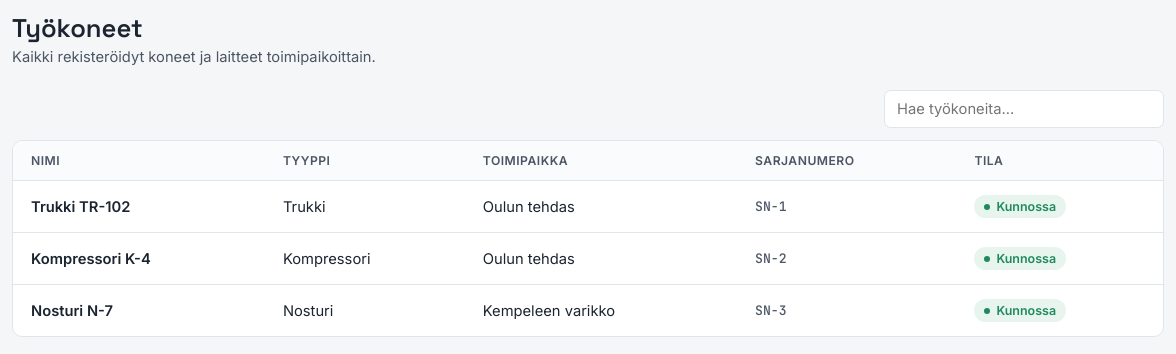
Test: Assets - haku ja lajittelu › hakukenttä suodattaa nimen mukaan
This screenshot has width=1176, height=354.
Expected: the text "Trukki TR-102" is shown, [13,180,265,232]
Type "kompressori" into the search field labelled "Hae työkoneita…" at [1024, 109], box [884,90,1164,128]
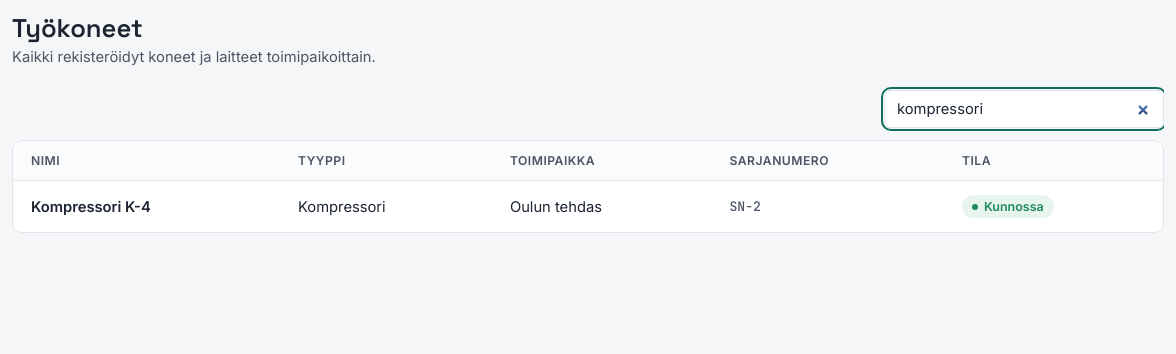
Expected: the text "Kompressori K-4" is shown, [13,180,280,232]
Expected: the text "Trukki TR-102" is gone
